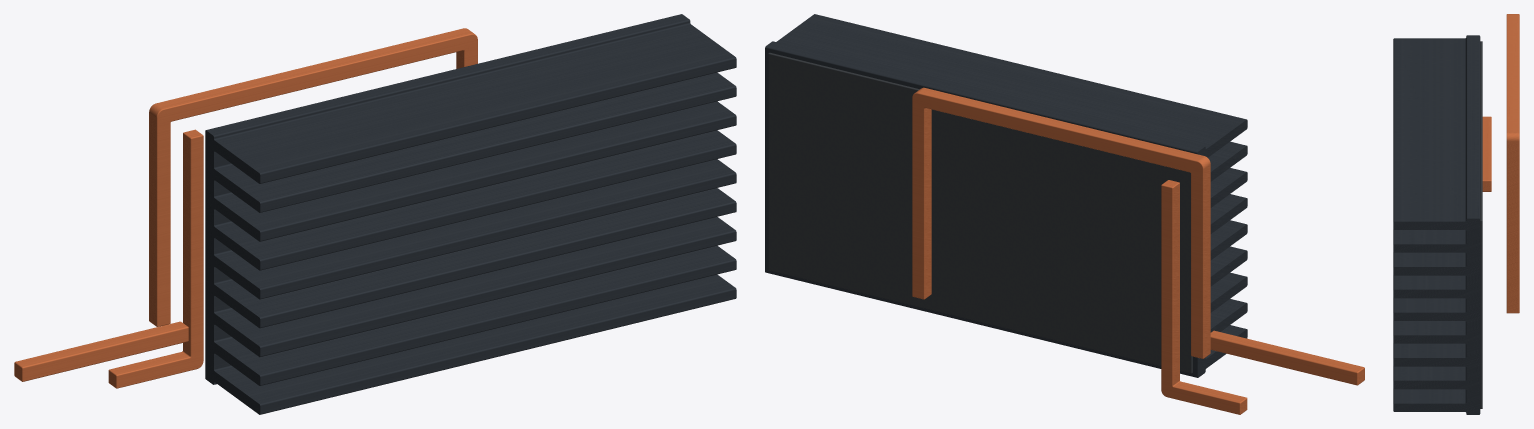
File: PufferESC_busbars_heatsink_centered.glb
3 renders of one model, left to right at view 1: azimuth 30°, elevation 25°; view 2: azimuth 150°, elevation 25°; view 3: azimuth 270°, elevation 25°, orthographic. The views are drawn at different scales.
Visible parts, largest first — view 1: Heatsink_Single_Extruded_Aluminum, VBAT_Rear_U_Copper, POWER_RETURN_Rear_L_Copper, VBAT_Front_Copper; view 2: Heatsink_Thermal_Adhesive, Heatsink_Single_Extruded_Aluminum, VBAT_Rear_U_Copper, POWER_RETURN_Rear_L_Copper, VBAT_Front_Copper; view 3: Heatsink_Single_Extruded_Aluminum, VBAT_Rear_U_Copper, Heatsink_Thermal_Adhesive, VBAT_Front_Copper.
Part boxes in pixels (box(x1,y1,x2,y2)): Heatsink_Single_Extruded_Aluminum: box(205, 14, 736, 414); VBAT_Rear_U_Copper: box(149, 28, 477, 326); POWER_RETURN_Rear_L_Copper: box(108, 129, 203, 388); VBAT_Front_Copper: box(14, 321, 188, 381); Heatsink_Thermal_Adhesive: box(768, 52, 1192, 373); Heatsink_Single_Extruded_Aluminum: box(765, 14, 1247, 377); VBAT_Rear_U_Copper: box(912, 87, 1210, 358); POWER_RETURN_Rear_L_Copper: box(1161, 180, 1247, 414); VBAT_Front_Copper: box(1210, 330, 1364, 385); Heatsink_Single_Extruded_Aluminum: box(1393, 35, 1480, 414); VBAT_Rear_U_Copper: box(1506, 14, 1519, 313); Heatsink_Thermal_Adhesive: box(1480, 41, 1482, 408); VBAT_Front_Copper: box(1482, 116, 1491, 191).
Size of the model in its own units: 0.0693 by 0.0269 by 0.0145.
Materials: 3 (3 with a texture image).
